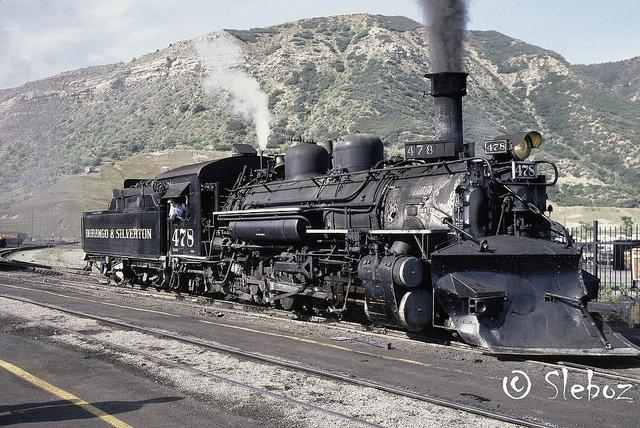Train: (84, 70, 638, 365)
